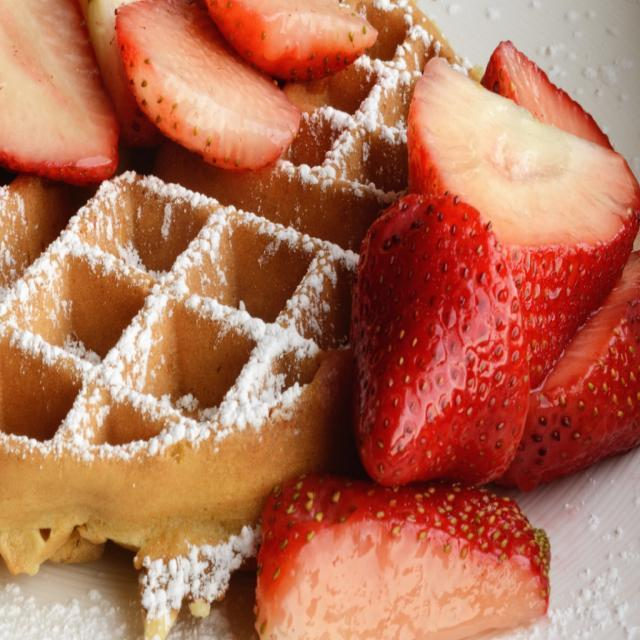Waffle: (0, 0, 484, 639)
